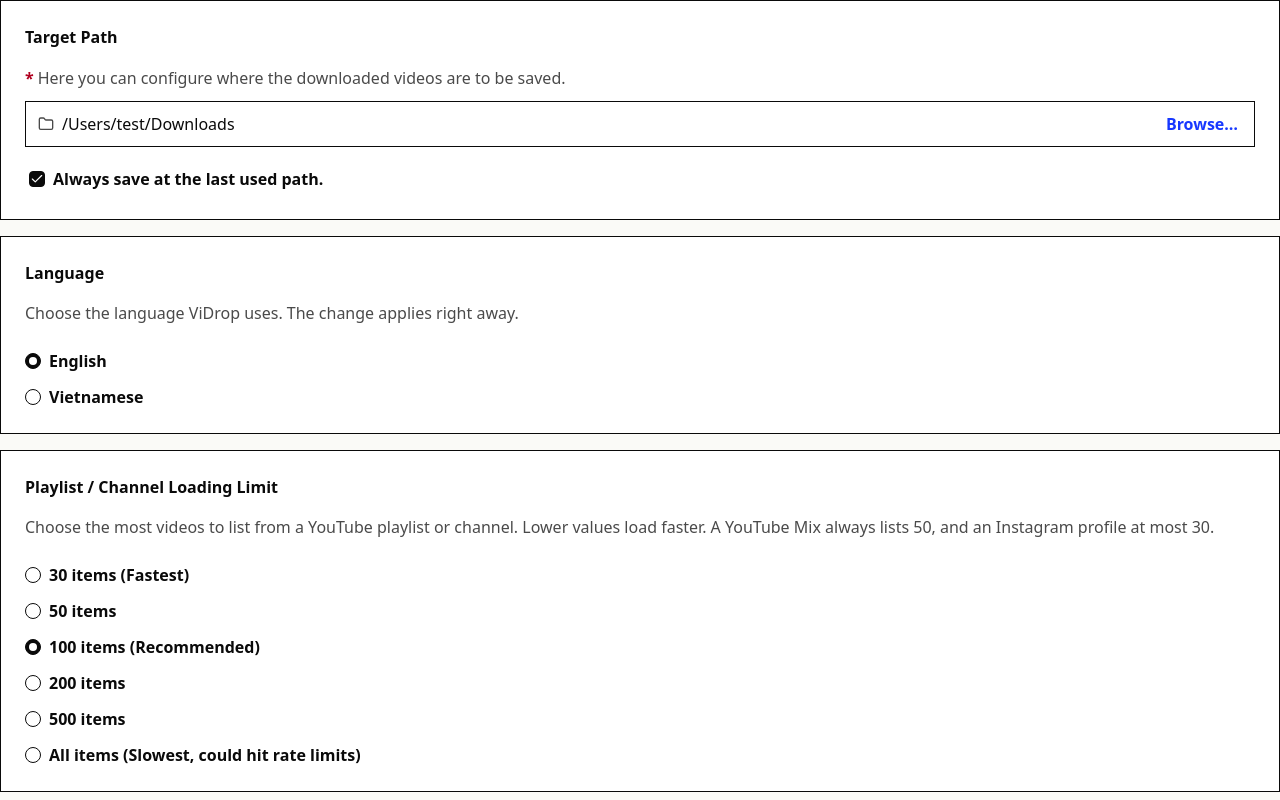
Test: SettingsPage › switches the whole page to Vietnamese immediately when the Vietnamese option is selected
Click the radio button named "Vietnamese" next to "Vietnamese": (33, 397) [25,389,41,405]
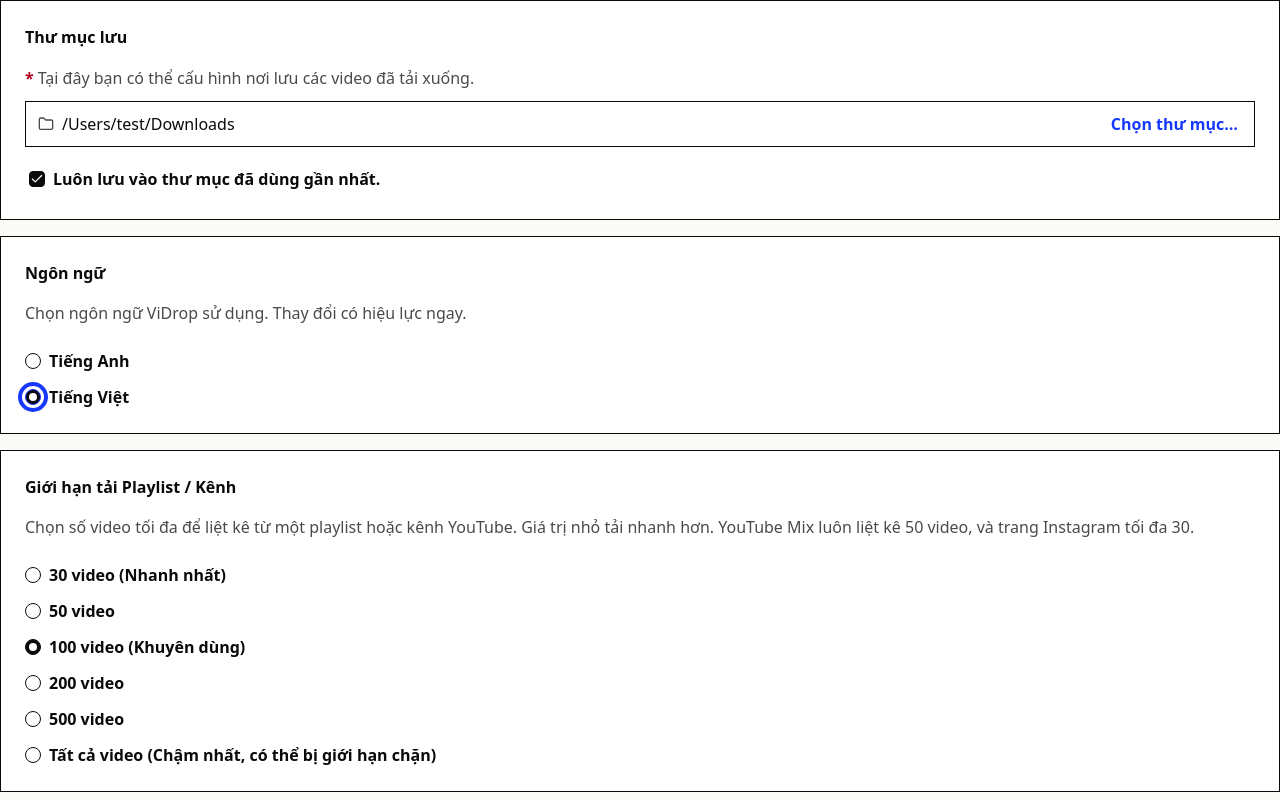
Expected: the text "Thư mục lưu" is shown, [25,26,127,48]
Expected: the text "Ngôn ngữ" is shown, [25,262,106,284]
Expected: the text "Target Path" is gone
